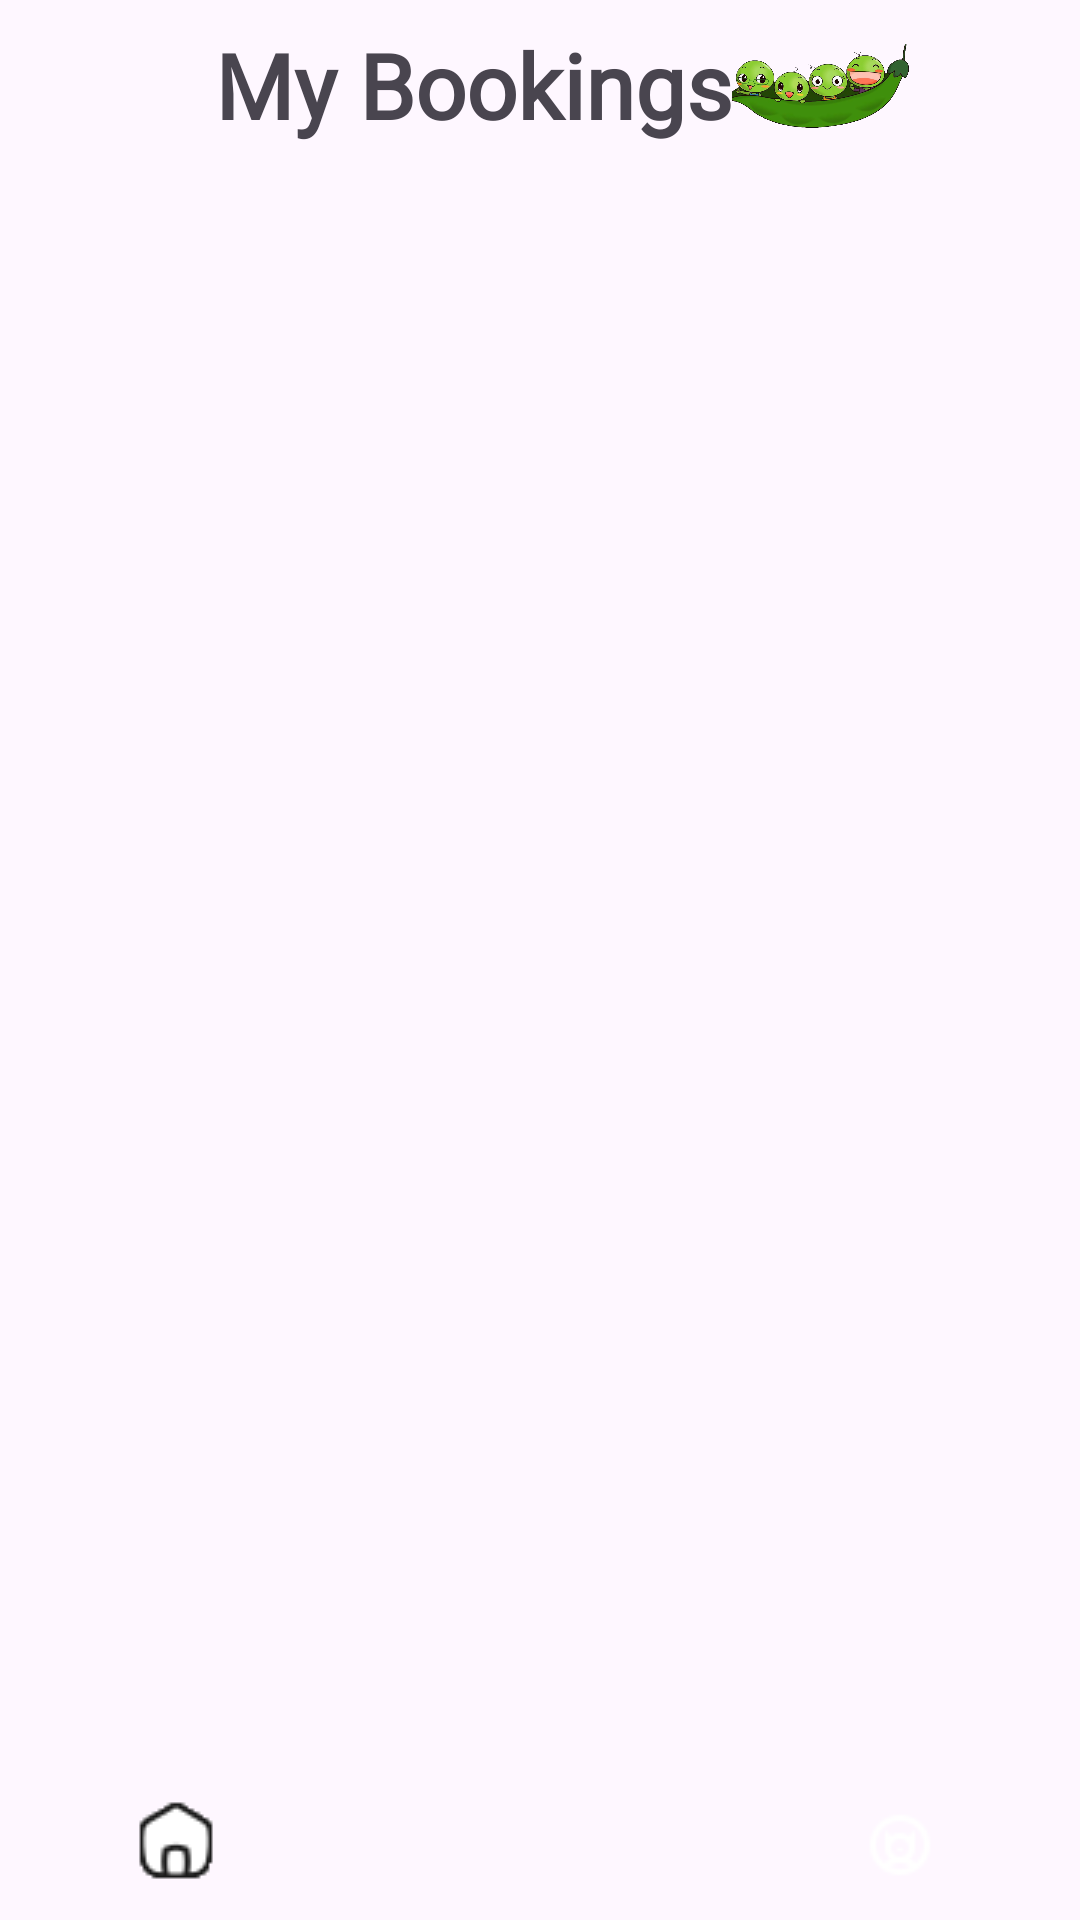

Icons on this 1080px x 1920px Android screen, each with the point to tap as (x=x, y=y):
peas: (x=820, y=86)
postclickhome: (x=176, y=1840)
